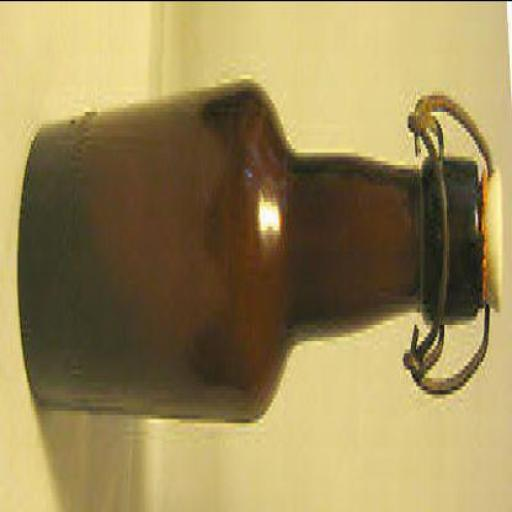glass: (18, 86, 482, 426)
plastic: (482, 168, 504, 319)
